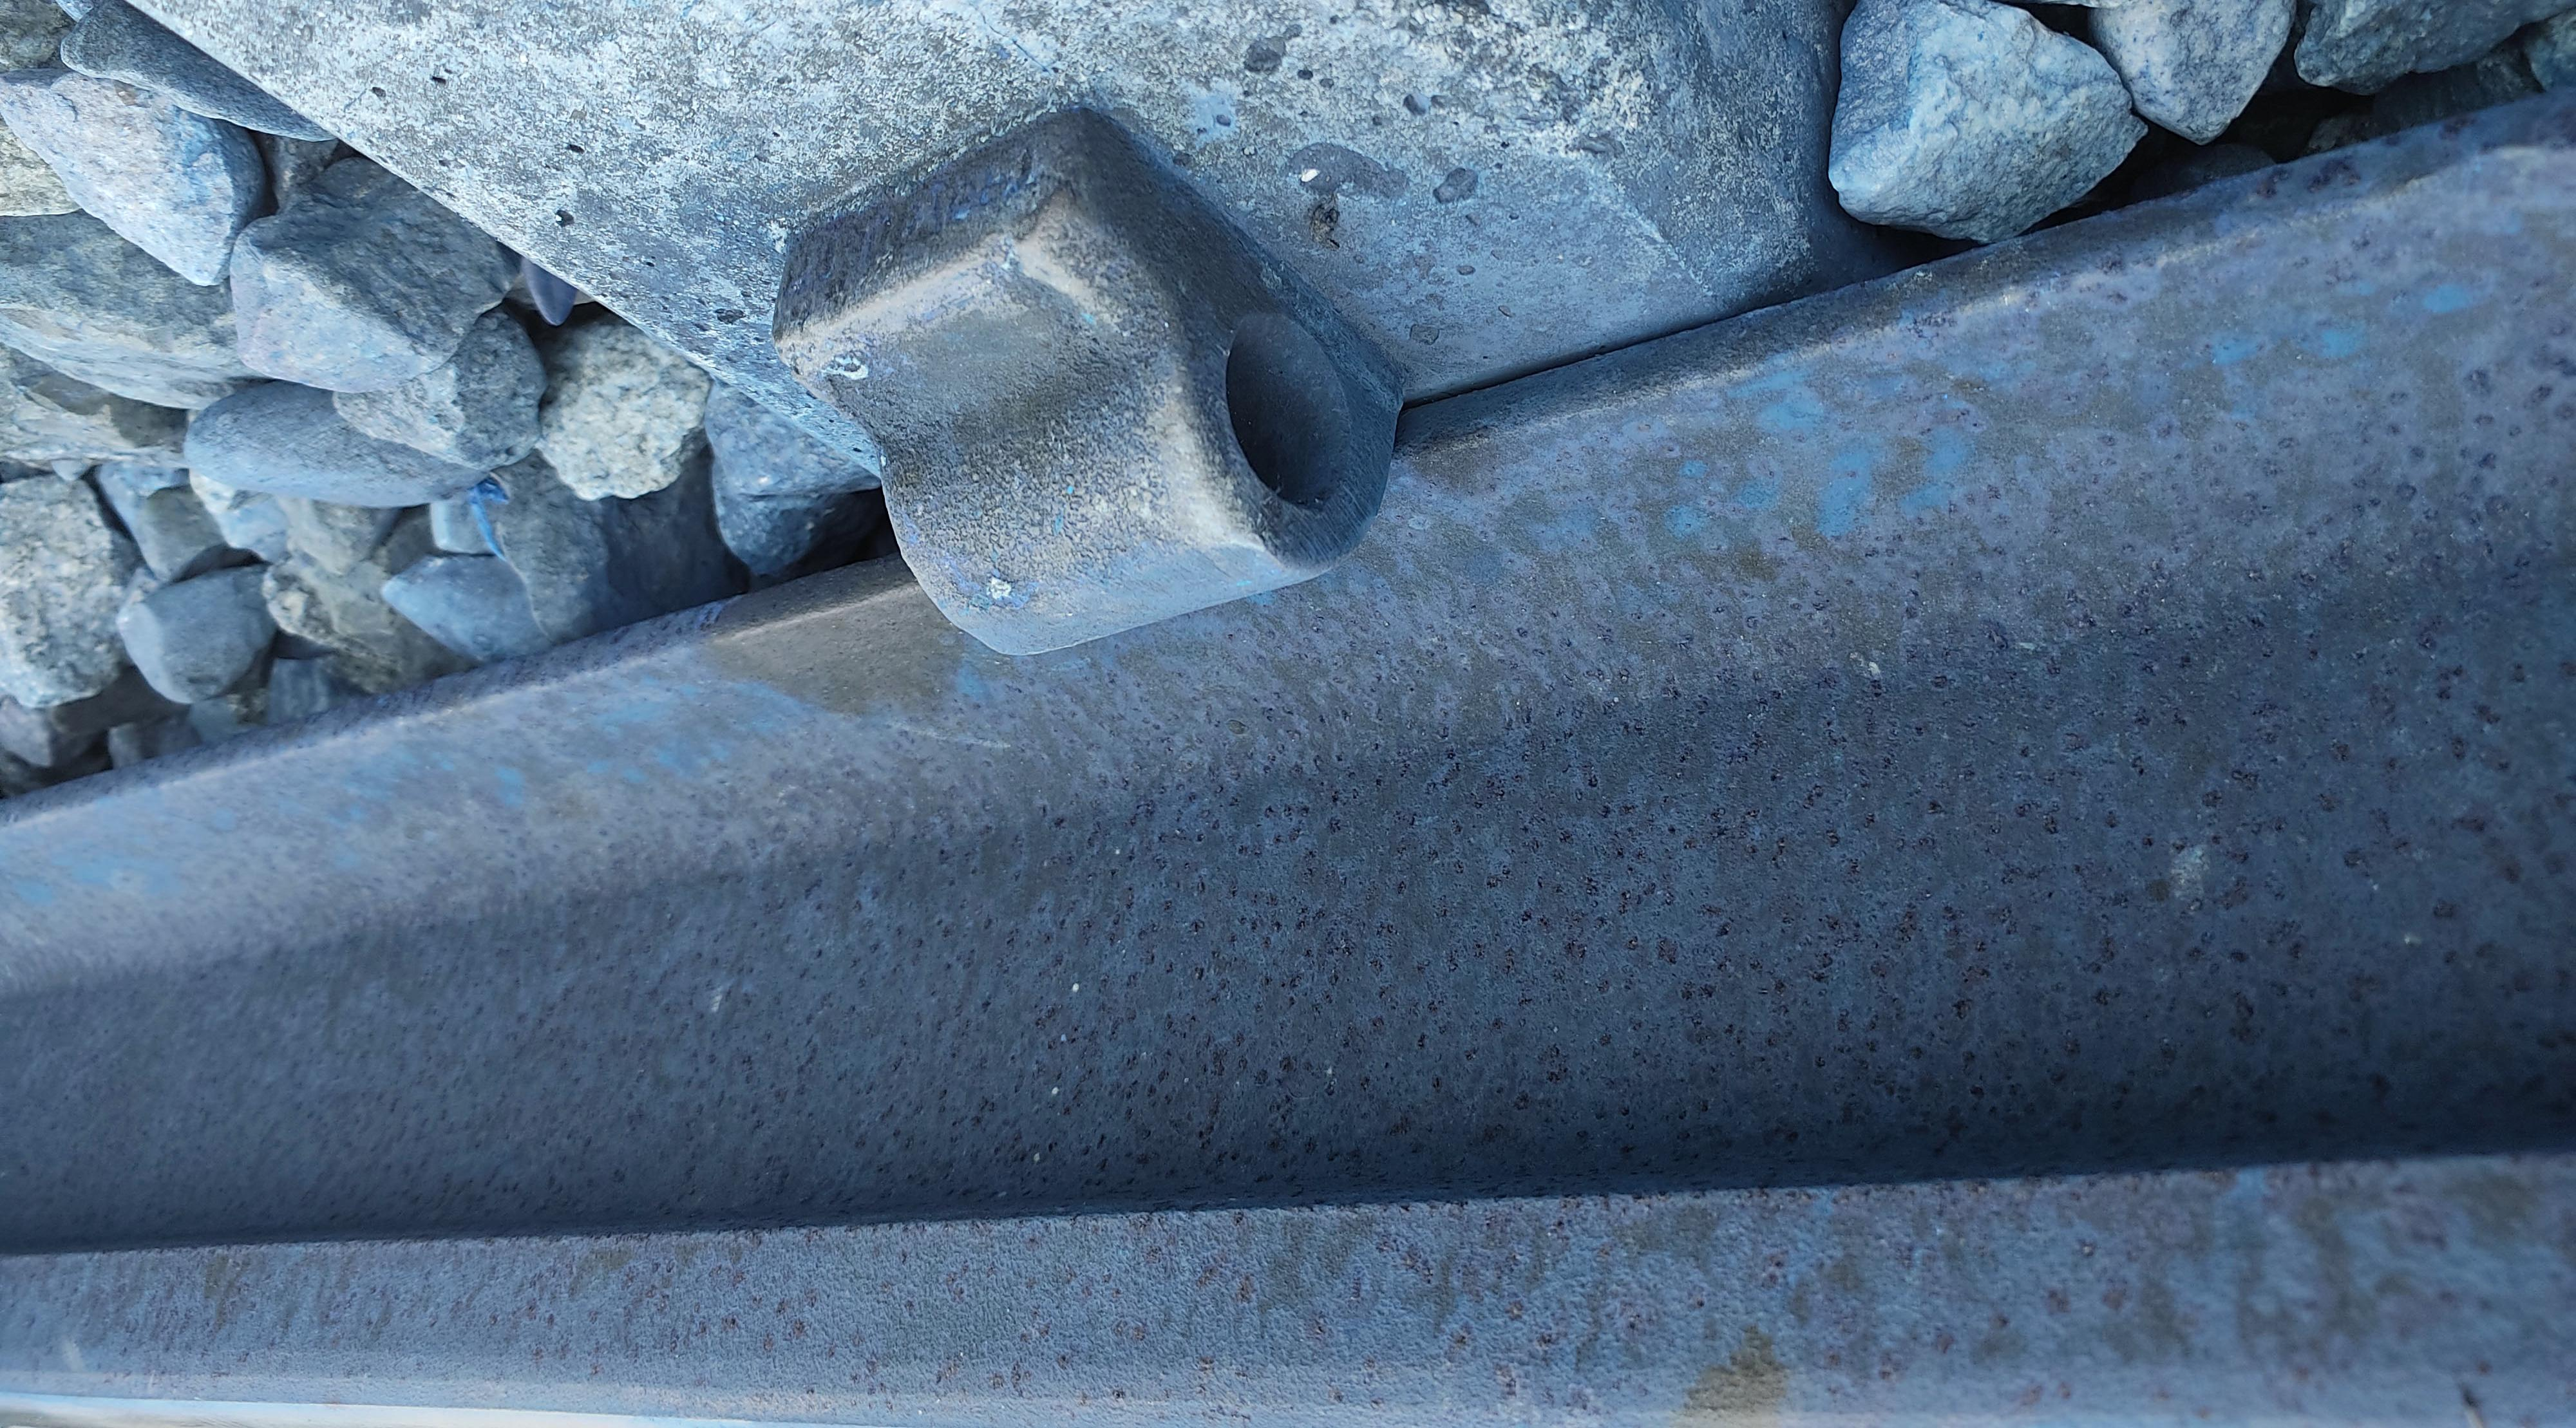error1: (679, 88, 1438, 733)
